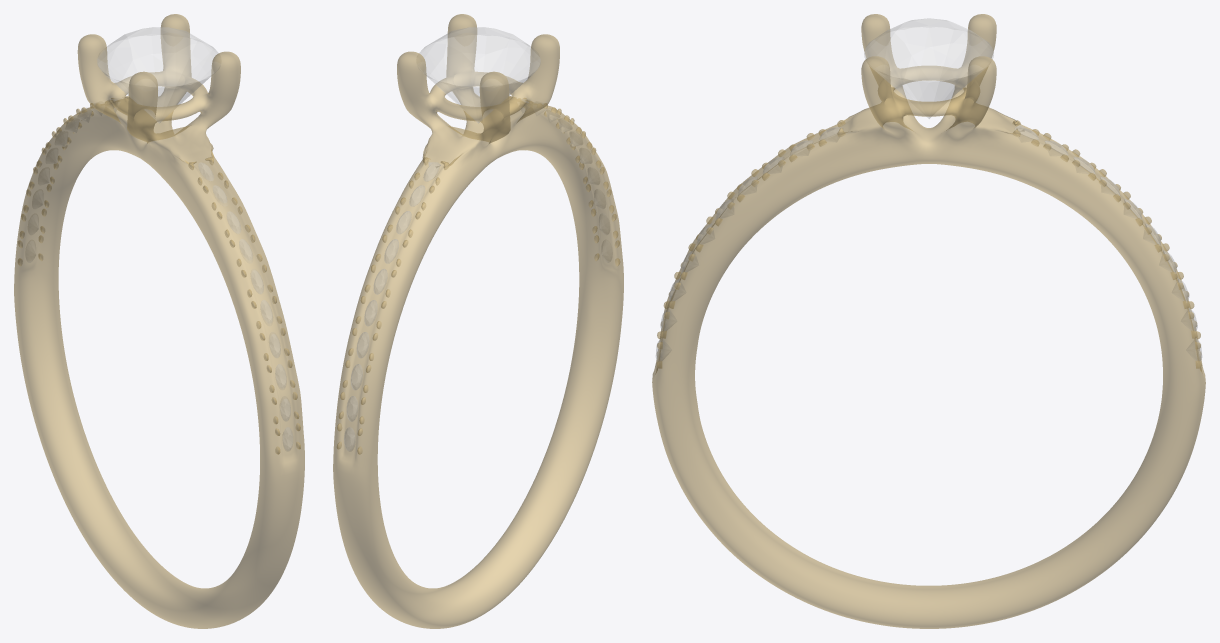
3 views of the same model, side by side, from view 1: azimuth 30°, elevation 25°; view 2: azimuth 150°, elevation 25°; view 3: azimuth 270°, elevation 25° (orthographic). The views are drawn at different scales.
Parts seen in each view (by area): view 1: Ring, Diamond; view 2: Ring, Diamond; view 3: Ring, Diamond.
Boxes of the visible parts, x1=… form: Ring: x1=14, y1=14, x2=304, y2=628; Diamond: x1=26, y1=27, x2=292, y2=451; Ring: x1=333, y1=14, x2=623, y2=628; Diamond: x1=344, y1=27, x2=612, y2=451; Ring: x1=652, y1=14, x2=1205, y2=628; Diamond: x1=656, y1=18, x2=1201, y2=360.
Bounding box in the file's own units: 0.5468 × 2.75 × 2.33.
